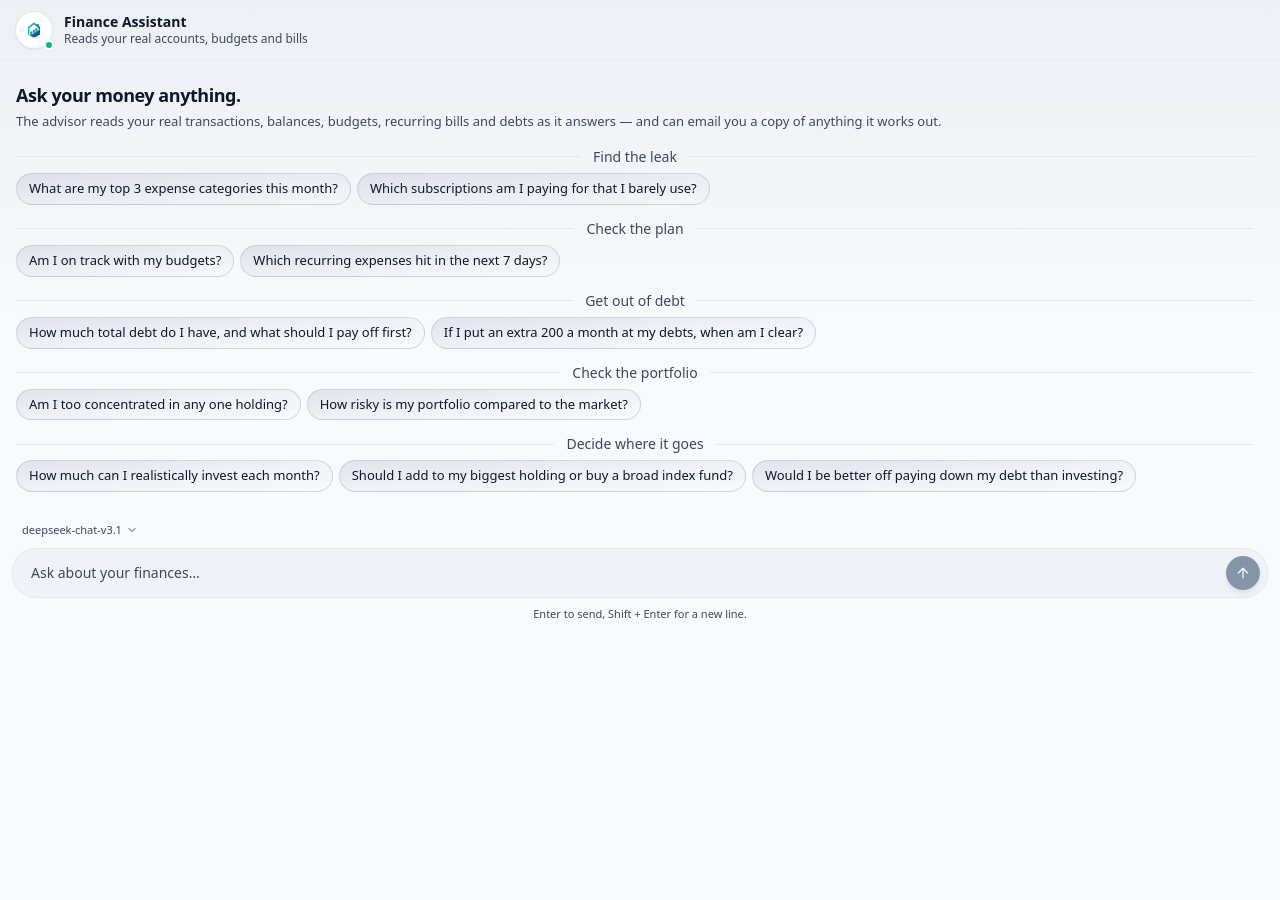
advisor skills › opens a skill menu on "/" that the keyboard can drive
Type "/" into the text box labelled "Ask about your finances…".
click(619, 573); type("/")  # box [19,555,1219,591]
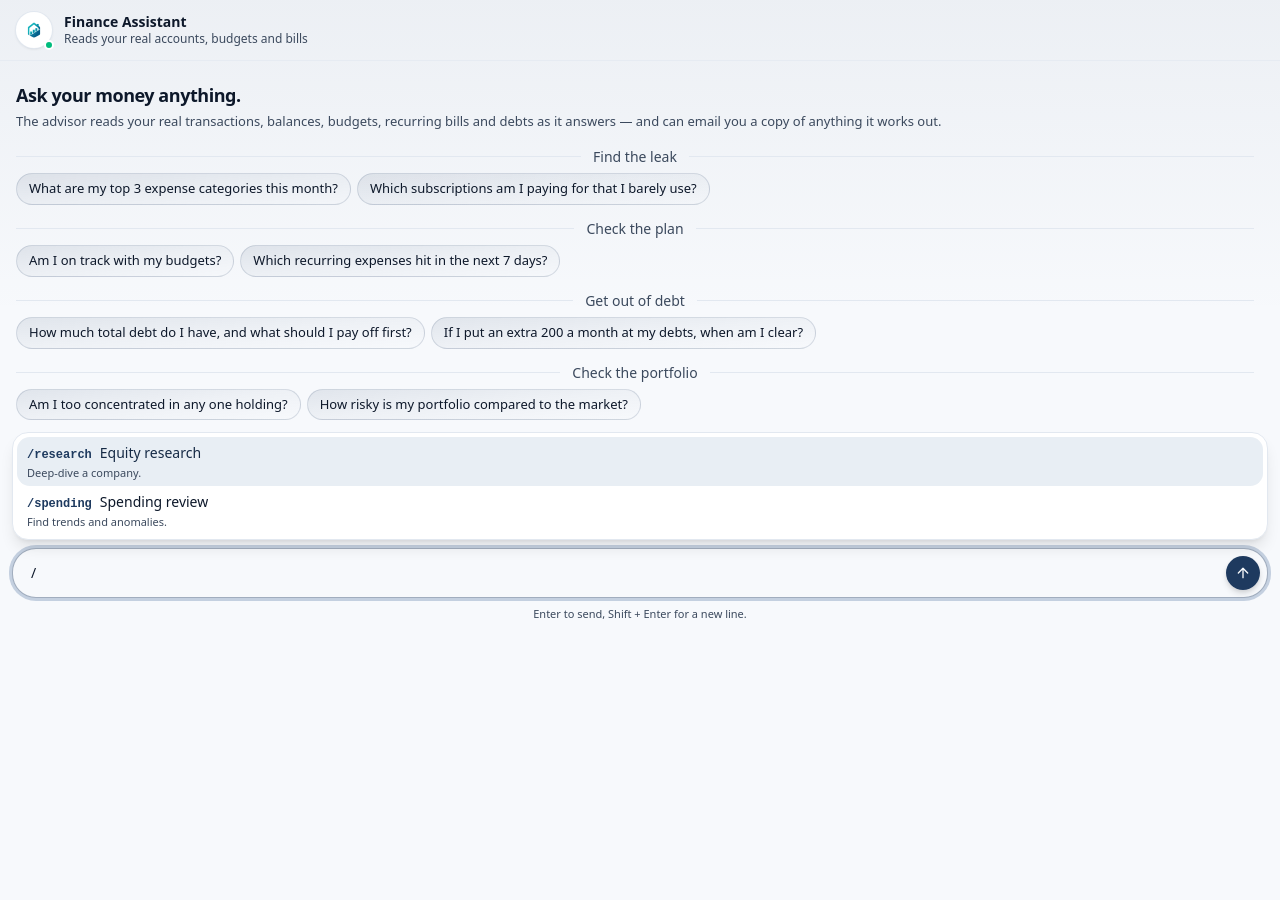
expect the number of options is 2: met, box [17,437,1263,486]; [27,492,208,529]
Press Arrowdown
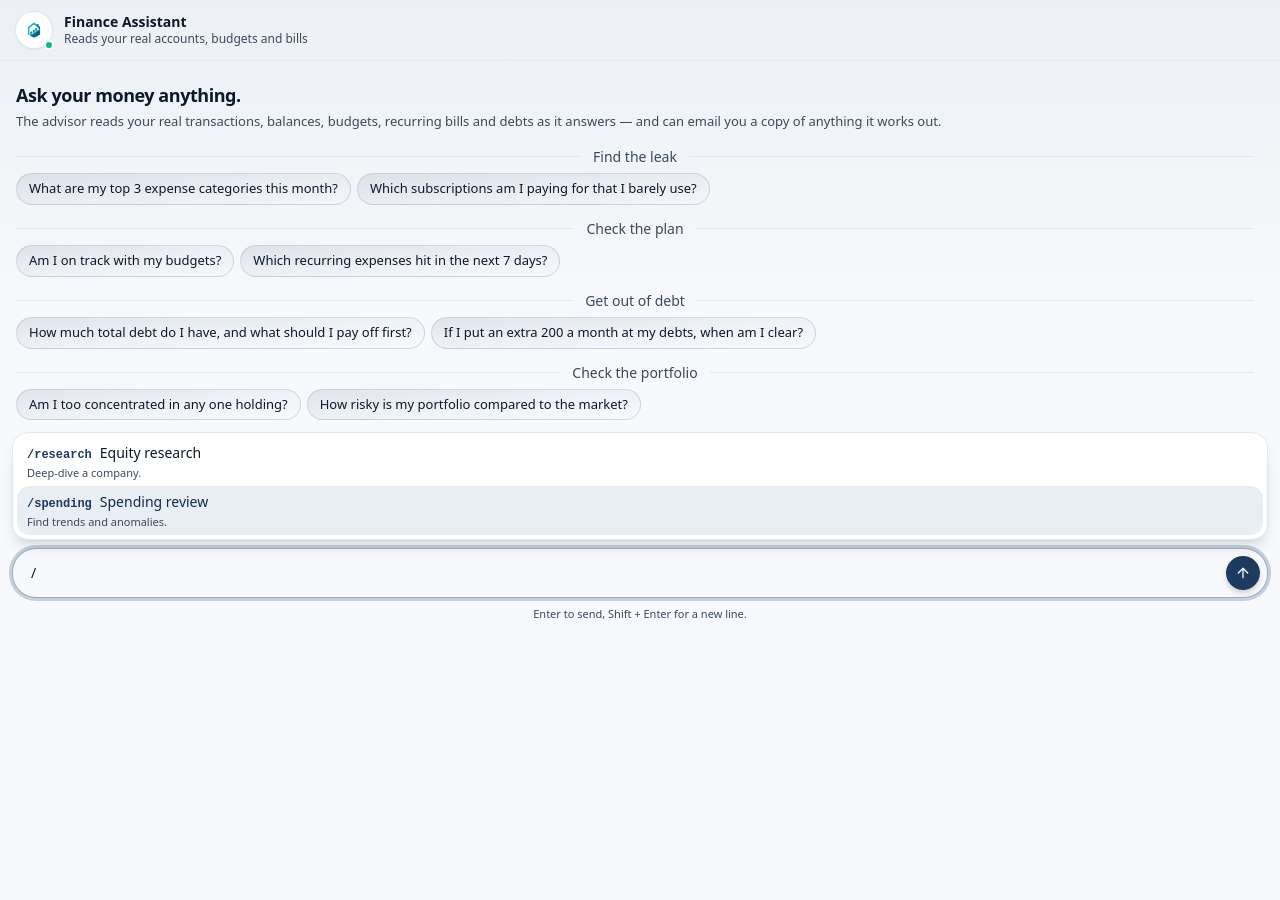
expect the option "/spending Spending review Find trends and anomalies." is selected: met, box [17,486,1263,535]
Press Enter
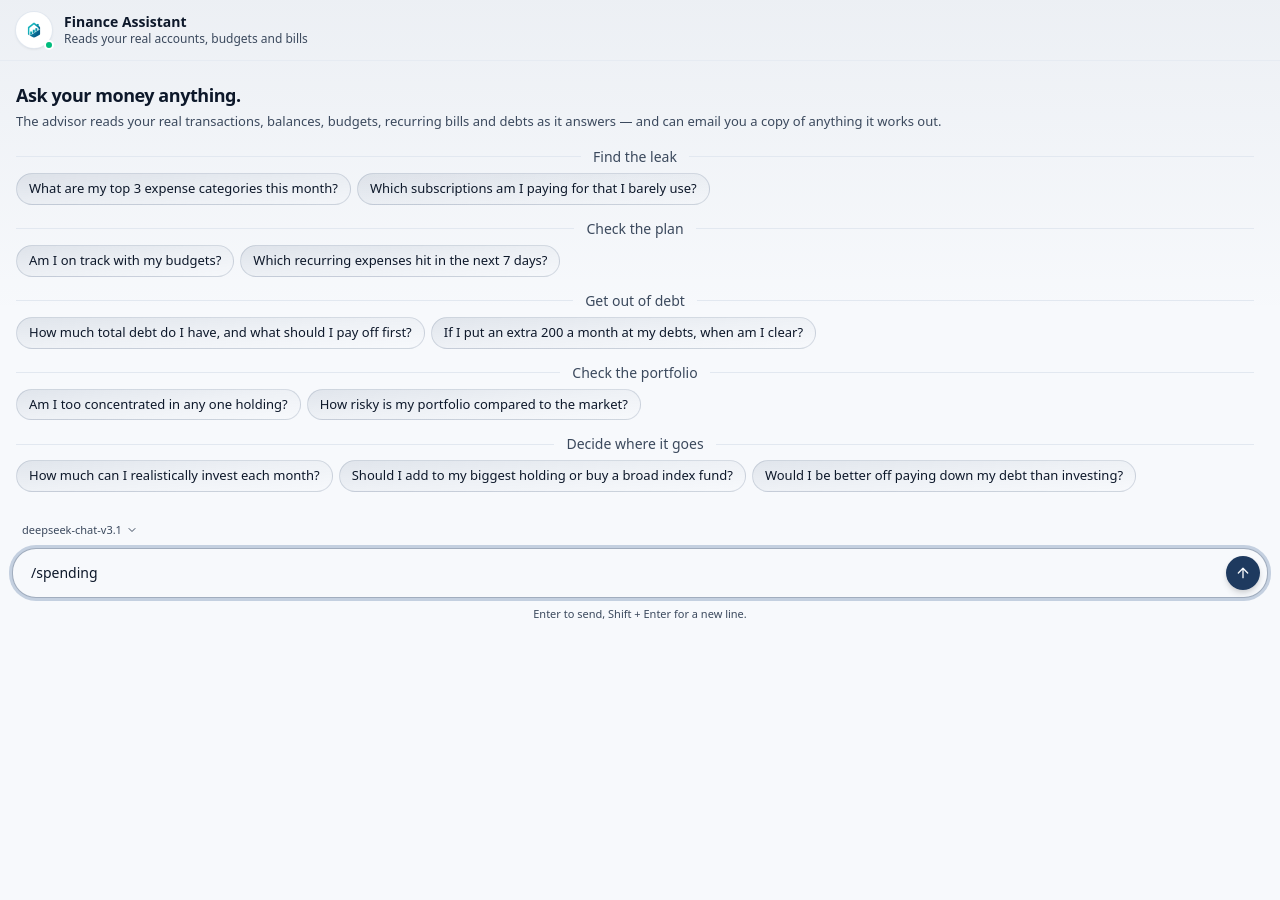
expect the text box named "Ask about your finances" holds "/spending ": met, box [19,555,1219,591]
expect the list is gone: met
